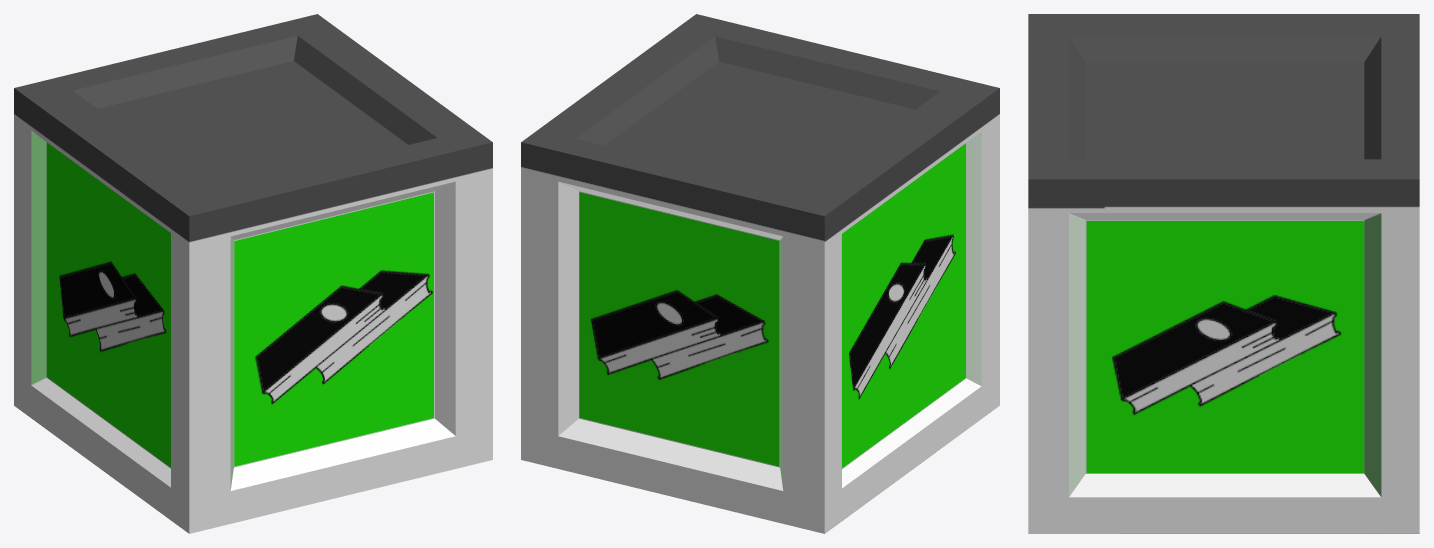
Rendered from Pickup_Health.obj.
3 views of the same model, side by side, from view 1: azimuth 30°, elevation 25°; view 2: azimuth 150°, elevation 25°; view 3: azimuth 270°, elevation 25° (orthographic). The views are drawn at different scales.
Parts seen in each view (by area): view 1: Crate1:Base_Crate Crate1:pCube2 Crate1:polySurface2 Pcikup_Healt; view 2: Crate1:Base_Crate Crate1:pCube2 Crate1:polySurface2 Pcikup_Healt; view 3: Crate1:Base_Crate Crate1:pCube2 Crate1:polySurface2 Pcikup_Healt.
Boxes of the visible parts, x1=… form: Crate1:Base_Crate Crate1:pCube2 Crate1:polySurface2 Pcikup_Healt: x1=14, y1=14, x2=492, y2=533; Crate1:Base_Crate Crate1:pCube2 Crate1:polySurface2 Pcikup_Healt: x1=521, y1=14, x2=999, y2=533; Crate1:Base_Crate Crate1:pCube2 Crate1:polySurface2 Pcikup_Healt: x1=1028, y1=14, x2=1419, y2=533.
Bounding box in the file's own units: 1 × 1 × 1.
